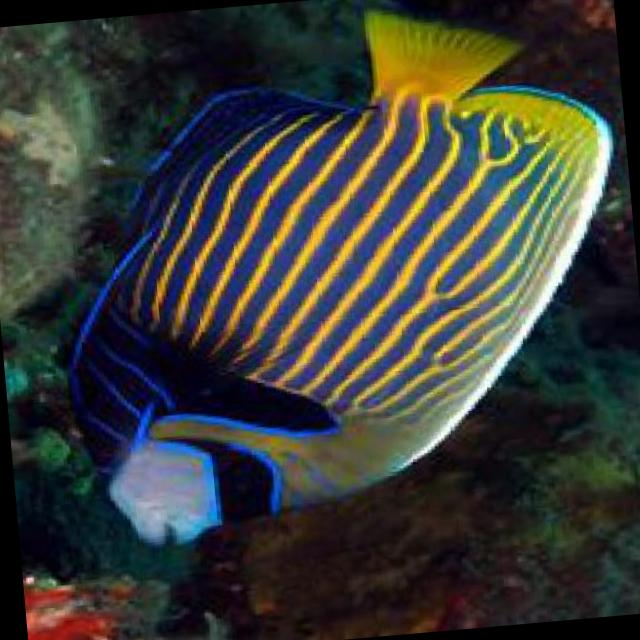AngelFish: (33, 0, 640, 556)
